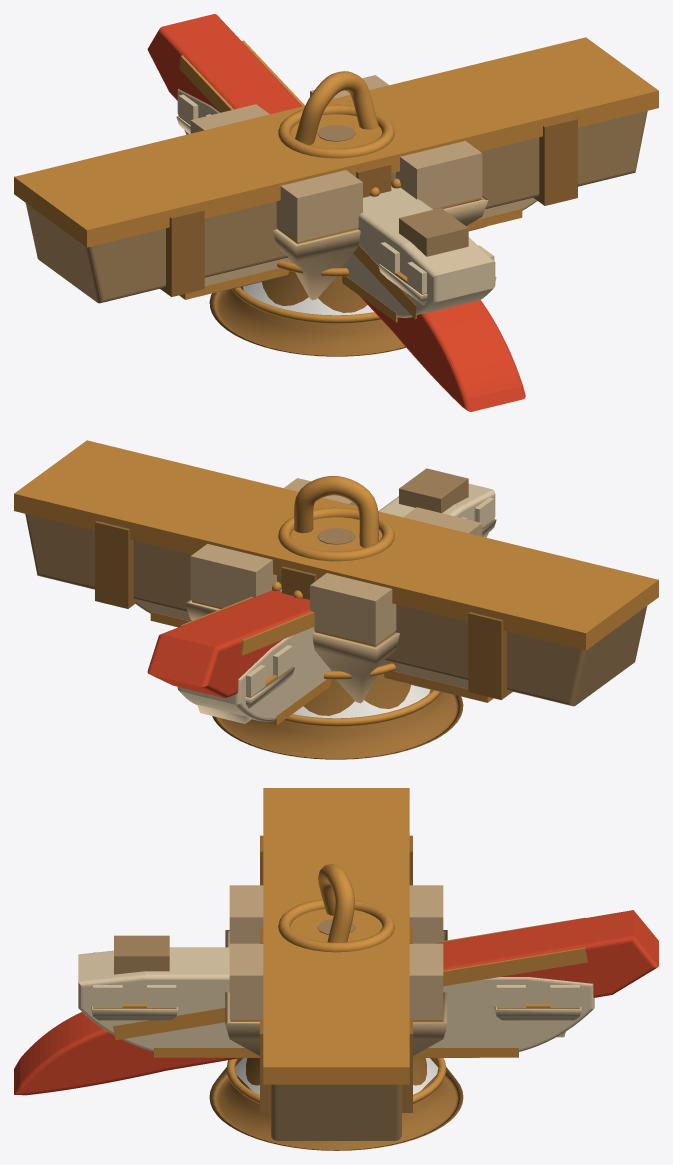
File: yongle_dougong.glb
The picture shows the model from 3 angles, top to bottom: view 1: azimuth 30°, elevation 25°; view 2: azimuth 150°, elevation 25°; view 3: azimuth 270°, elevation 25°; orthographic projection.
Parts seen in each view (by area): view 1: shuatou, ang_lever, yongle_crest, huagong, ludou_mesh_3, ludou_mesh_5, ludou_mesh_0, nidaogong, ludou, ludou_mesh_2; view 2: shuatou, yongle_crest, ang_lever, huagong, ludou_mesh_2, ludou_mesh_4, ludou_mesh_0, nidaogong, ludou, ludou_mesh_3, jiaohudou_mesh_0, jiaohudou_mesh_2 (+1 smaller); view 3: shuatou, ang_lever, huagong, yongle_crest, ludou_mesh_4, ludou_mesh_5, jiaohudou_mesh_0 (×2), ludou_mesh_0, ludou_mesh_3, ludou_mesh_2, jiaohudou_mesh_4 (×2), jiaohudou_mesh_5 (×2) (+1 smaller).
Part boxes in pixels (bbox=[...]): shuatou: bbox=[14, 37, 658, 303]; ang_lever: bbox=[147, 14, 525, 411]; yongle_crest: bbox=[209, 71, 406, 356]; huagong: bbox=[177, 88, 495, 322]; ludou_mesh_3: bbox=[276, 170, 362, 242]; ludou_mesh_5: bbox=[396, 141, 482, 209]; ludou_mesh_0: bbox=[273, 196, 488, 300]; nidaogong: bbox=[159, 197, 537, 299]; ludou: bbox=[242, 125, 374, 315]; ludou_mesh_2: bbox=[190, 104, 269, 133]; shuatou: bbox=[14, 440, 658, 706]; yongle_crest: bbox=[212, 476, 463, 759]; ang_lever: bbox=[147, 590, 314, 697]; huagong: bbox=[177, 468, 495, 725]; ludou_mesh_2: bbox=[310, 573, 396, 645]; ludou_mesh_4: bbox=[190, 544, 276, 607]; ludou_mesh_0: bbox=[184, 599, 399, 703]; nidaogong: bbox=[135, 600, 513, 702]; ludou: bbox=[293, 528, 430, 718]; ludou_mesh_3: bbox=[403, 507, 482, 536]; jiaohudou_mesh_0: bbox=[197, 666, 294, 723]; jiaohudou_mesh_2: bbox=[246, 665, 265, 696]; shuatou: bbox=[131, 788, 493, 1140]; ang_lever: bbox=[14, 910, 658, 1095]; huagong: bbox=[78, 935, 594, 1057]; yongle_crest: bbox=[209, 864, 463, 1150]; ludou_mesh_4: bbox=[409, 943, 443, 1019]; ludou_mesh_5: bbox=[229, 943, 263, 1019]; jiaohudou_mesh_0 (×2): bbox=[91, 1006, 581, 1037]; ludou_mesh_0: bbox=[225, 930, 447, 1055]; ludou_mesh_3: bbox=[229, 885, 263, 943]; ludou_mesh_2: bbox=[409, 885, 443, 943]; jiaohudou_mesh_4 (×2): bbox=[147, 985, 579, 1007]; jiaohudou_mesh_5 (×2): bbox=[93, 985, 525, 1007].
Size of the model in its own units: 1.9 by 0.7374 by 1.85.
